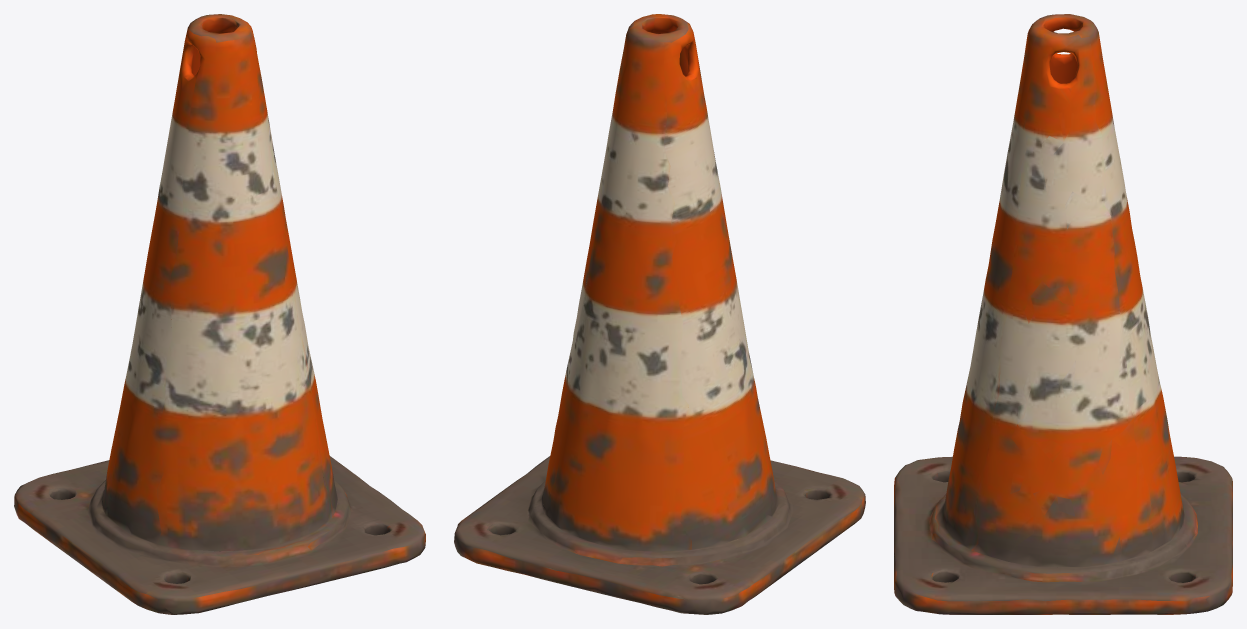
The model's file is cono_obra.glb.
The picture shows the model from 3 angles, left to right: view 1: azimuth 30°, elevation 25°; view 2: azimuth 150°, elevation 25°; view 3: azimuth 270°, elevation 25°; orthographic projection. The views are drawn at different scales.
Parts seen in each view (by area): view 1: geometry_0; view 2: geometry_0; view 3: geometry_0.
Part boxes in pixels (left/top/right/bottom): geometry_0: left=14, top=14, right=425, bottom=614; geometry_0: left=454, top=14, right=865, bottom=614; geometry_0: left=894, top=14, right=1232, bottom=614.
Size of the model in its own units: 0.35 by 0.6 by 0.35.
1 material, 1 textured.
